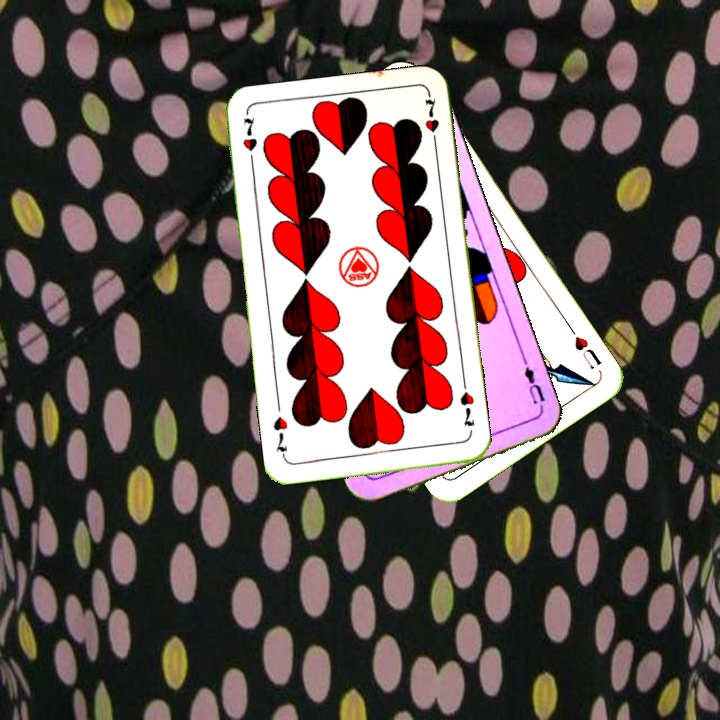EU: (519, 356, 548, 414)
H7: (239, 113, 260, 170), (456, 387, 477, 429)
HU: (565, 323, 604, 372)
